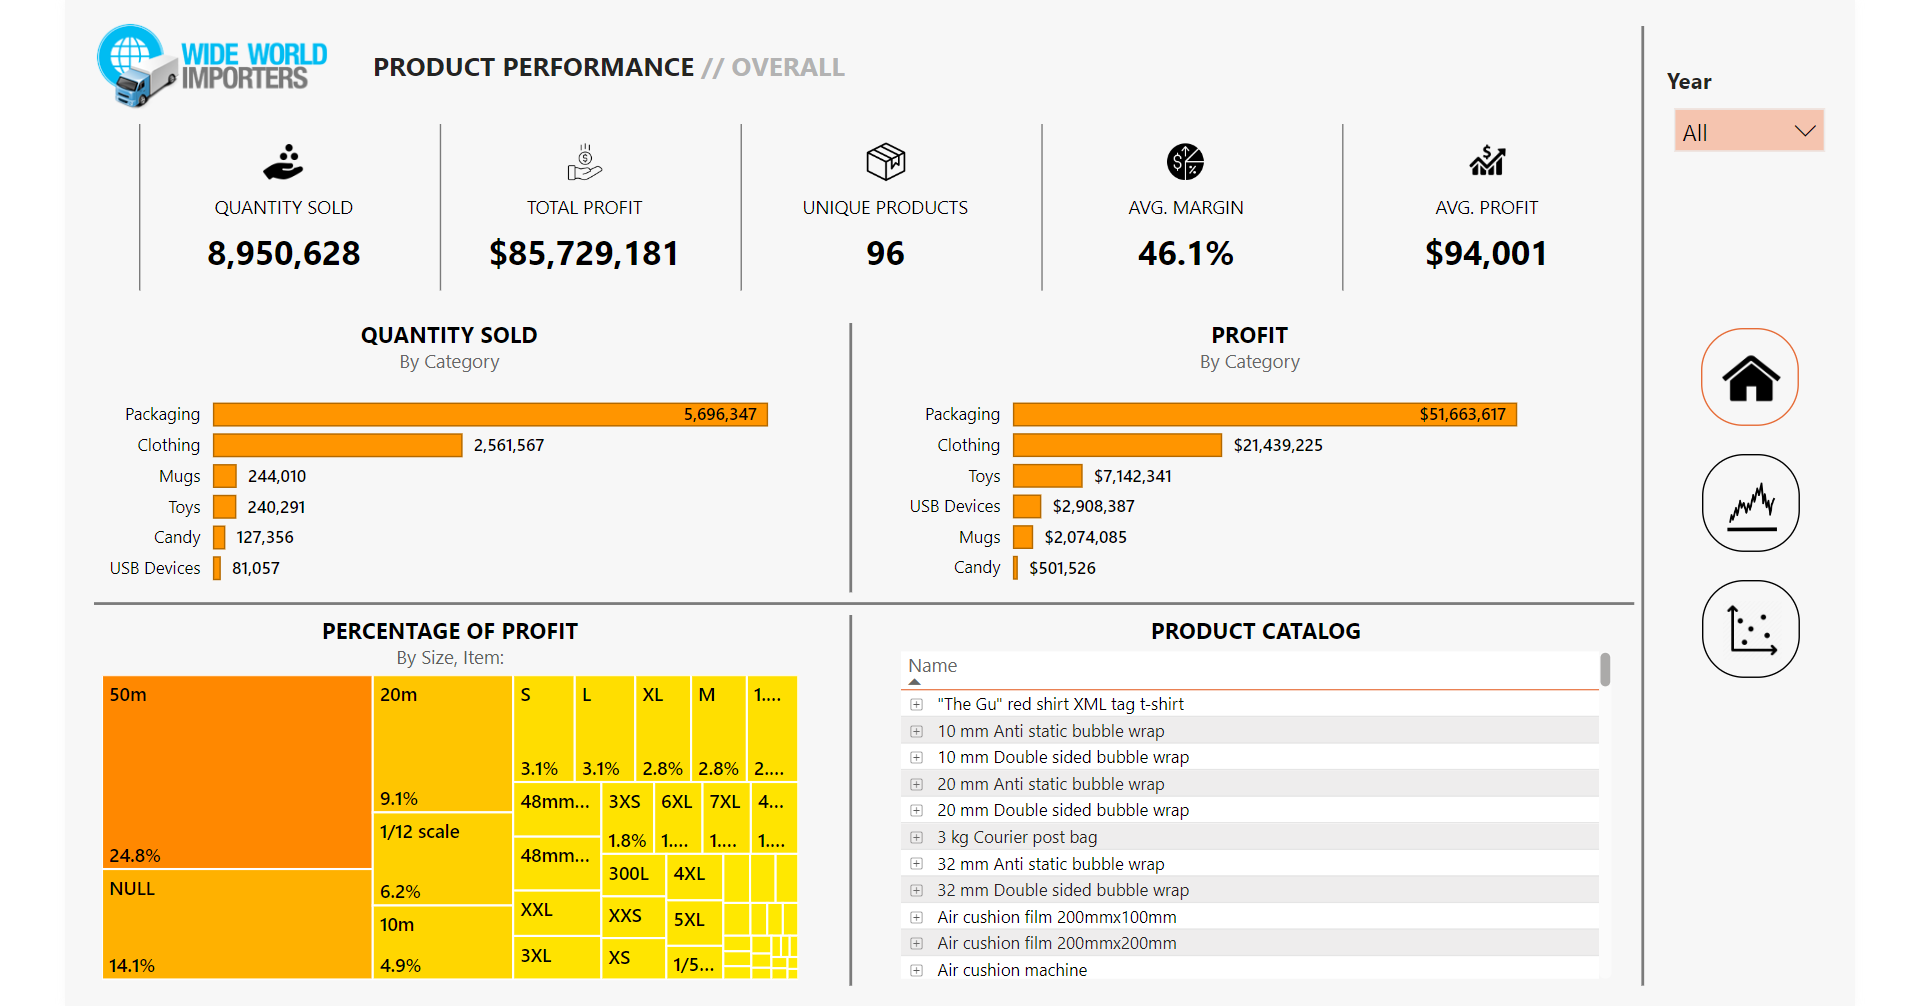

Layout of this report page (visuals, bound fields, positions):
{"tool":"powerbi","page":{"name":"Home","canvas":[1280,720],"ordinal":0},"visuals":[{"type":"textbox","box":[215,29,550,49],"z":0},{"type":"cardVisual","fields":{"Data":["product.Quantity Sold","product.Total Profit","product.Unique Products","product.Average Margin","product.Average Profit"]},"box":[47.7,83.6,1080.6,129.4],"z":1000},{"type":"barChart","title":"QUANTITY SOLD","fields":{"Category":["product.Category"],"Y":["product.Quantity Sold"]},"box":[21,228,508,201],"z":2000},{"type":"barChart","title":"PROFIT","fields":{"Category":["product.Category"],"Y":["product.Total Profit"]},"box":[592.8,228.4,508.7,200.6],"z":3000},{"type":"image","box":[11,10,195,73],"z":4000},{"type":"pivotTable","title":"PRODUCT CATALOG","fields":{"Rows":["product.StockItemName","product.Size","product.Color"]},"box":[592.8,439.7,517.6,265.1],"z":5000},{"type":"treemap","title":"PERCENTAGE OF PROFIT","fields":{"Values":["product.Percentage Quantity"],"Group":["product.Size"]},"box":[21.4,439.6,507.7,265.5],"z":6000},{"type":"shape","box":[1121.2,18.8,12.5,686],"z":7000},{"type":"shape","box":[20.4,423.1,1101,16.5],"z":8000},{"type":"shape","box":[555.2,231,12.5,192.5],"z":9000},{"type":"shape","box":[555.2,439.7,12.5,265.1],"z":10000},{"type":"slicer","title":"Year","fields":{"Values":["product.Year"]},"box":[1140,46.6,128.1,66.3],"z":11000},{"type":"image","box":[1169.9,324.4,70,70],"z":12000},{"type":"image","box":[1169.5,234.6,70,70],"z":13000},{"type":"image","box":[1169.9,414.4,70,70],"z":14000}]}

Visuals, with their boxes on the page's 1280x720 design canvas (x1, y1, x2, y2). These are canvas units, not pixel positions in the 1918x1006 screenshot, which may show the page scaled, cropped or inside an application window:
textbox: [215,29,765,78]
cardVisual - product.Quantity Sold x product.Total Profit: [48,84,1128,213]
"QUANTITY SOLD" barChart: [21,228,529,429]
"PROFIT" barChart: [593,228,1102,429]
image: [11,10,206,83]
"PRODUCT CATALOG" pivotTable: [593,440,1110,705]
"PERCENTAGE OF PROFIT" treemap: [21,440,529,705]
shape: [1121,19,1134,705]
shape: [20,423,1121,440]
shape: [555,231,568,424]
shape: [555,440,568,705]
"Year" slicer: [1140,47,1268,113]
image: [1170,324,1240,394]
image: [1170,235,1240,305]
image: [1170,414,1240,484]
